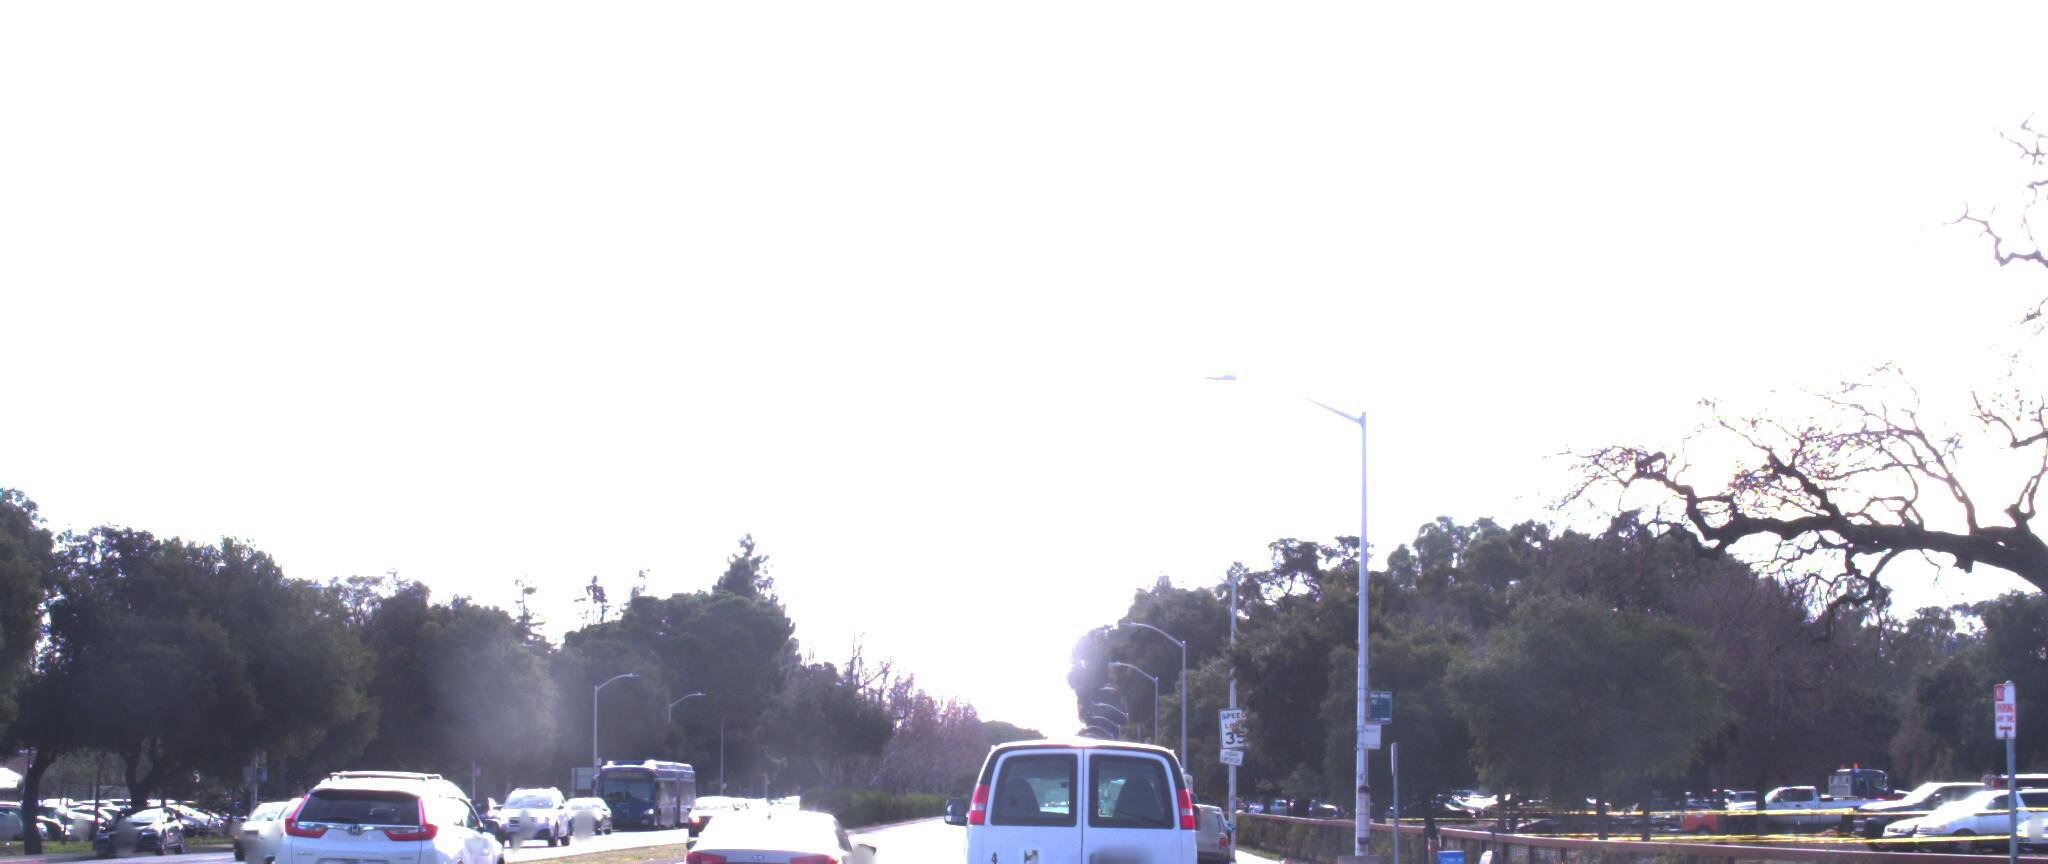car: (0, 707, 270, 864), (950, 707, 1192, 864), (266, 760, 536, 864), (677, 780, 888, 864)
